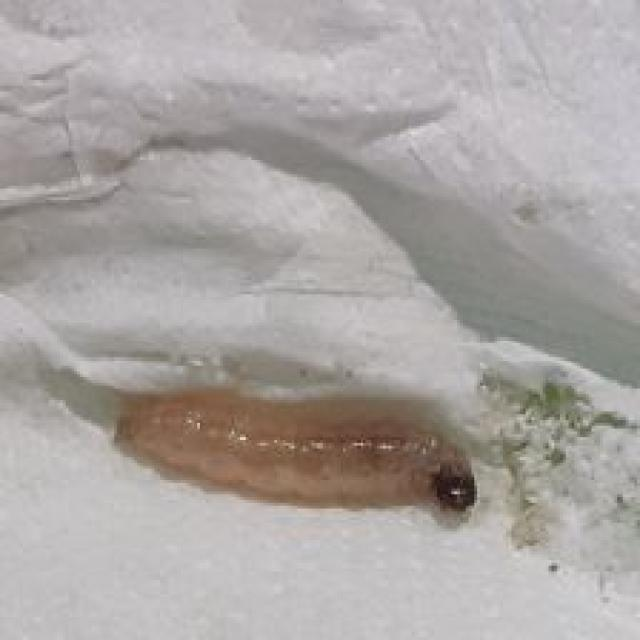white mucus: (107, 378, 526, 544)
